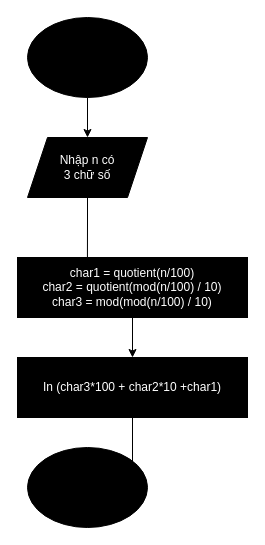
The diagram is 265 pixels wide and 545 high, and some of its shapes have lost their labels. Each missing label, with the centre of its shape:
"End" belongs at pixel 87 487.
"Start" belongs at pixel 87 57.
